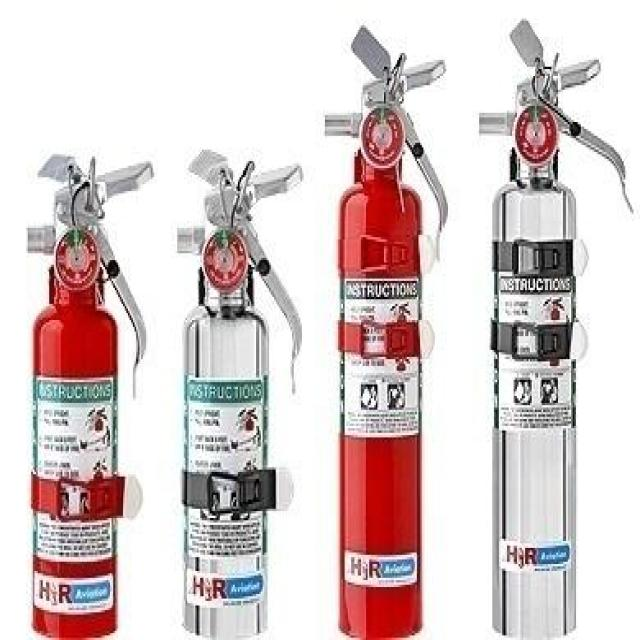fire_extinguisher: (472, 14, 634, 638), (320, 18, 451, 638), (171, 142, 305, 638), (20, 150, 156, 638)
